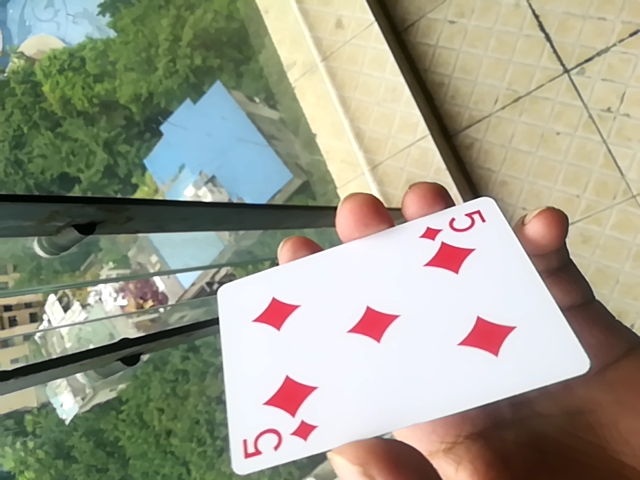fk 5: (202, 193, 601, 477)
